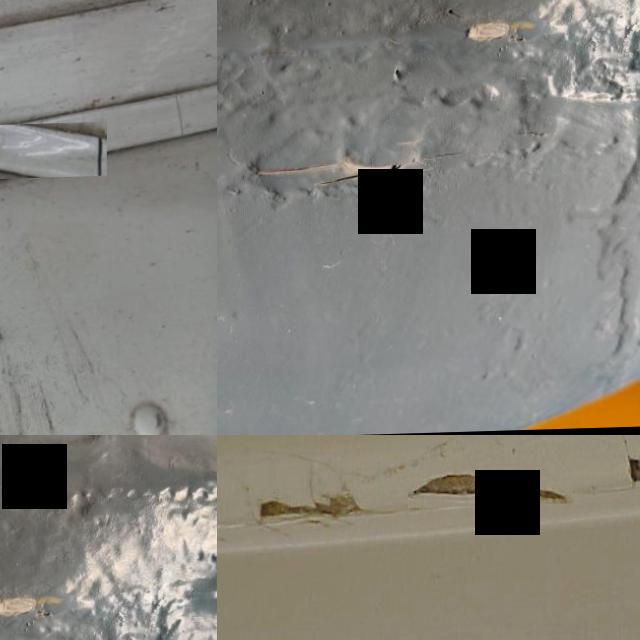Crack: (246, 130, 470, 203), (0, 321, 99, 435), (408, 473, 572, 506), (261, 480, 380, 525), (604, 435, 640, 496)
Dent: (0, 124, 107, 183)
